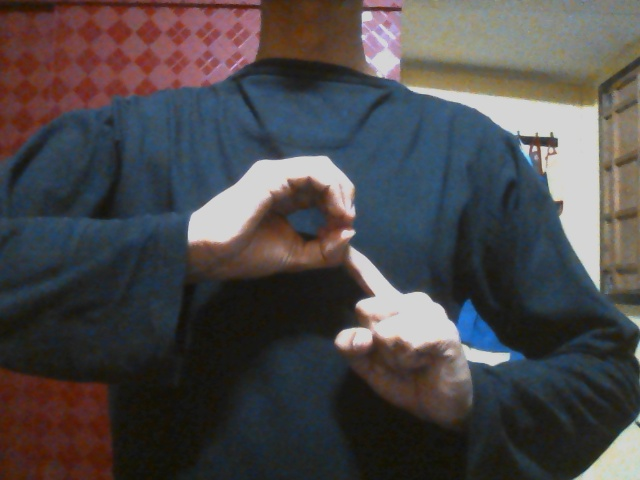Q: (199, 152, 465, 429)
